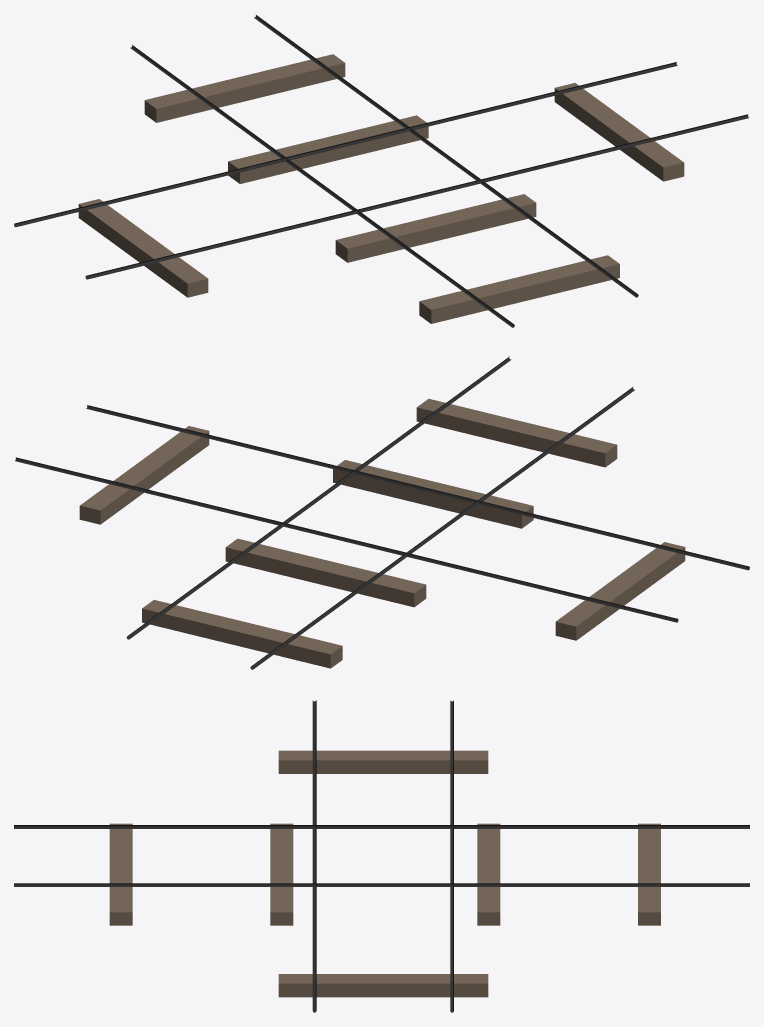
3 renders of one model, top to bottom at view 1: azimuth 30°, elevation 25°; view 2: azimuth 150°, elevation 25°; view 3: azimuth 270°, elevation 25°, orthographic. The views are drawn at different scales.
Parts seen in each view (by area): view 1: RL58 | archived geometry, RL58 | line, light and sprite surfaces; view 2: RL58 | archived geometry, RL58 | line, light and sprite surfaces; view 3: RL58 | archived geometry, RL58 | line, light and sprite surfaces.
Boxes of the visible parts, x1,y1,x2,y2 form: RL58 | archived geometry: (78, 54, 684, 323); RL58 | line, light and sprite surfaces: (14, 14, 748, 327); RL58 | archived geometry: (79, 398, 685, 668); RL58 | line, light and sprite surfaces: (15, 356, 749, 669); RL58 | archived geometry: (109, 750, 660, 997); RL58 | line, light and sprite surfaces: (14, 700, 749, 1012).
Size of the model in its own units: 16.06 by 0.6486 by 16.06.
